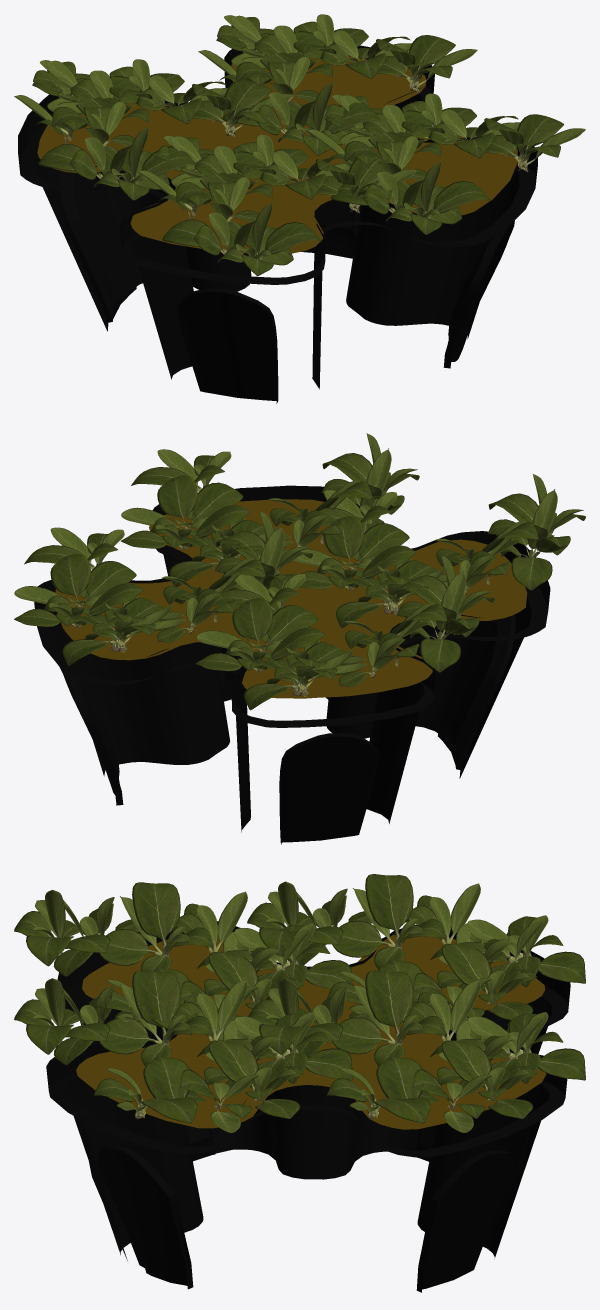
File: planterv2.glb
The picture shows the model from 3 angles, top to bottom: view 1: azimuth 30°, elevation 25°; view 2: azimuth 150°, elevation 25°; view 3: azimuth 270°, elevation 25°; orthographic projection. The views are drawn at different scales.
Parts seen in each view (by area): view 1: Circle.033, Circle.032, Bergenia Rotblum Set.070, Bergenia Rotblum Set.065, Bergenia Rotblum Set.067, Bergenia Rotblum Set.069; view 2: Circle.033, Circle.032, Bergenia Rotblum Set.070, Bergenia Rotblum Set.069, Bergenia Rotblum Set.065, Bergenia Rotblum Set.067; view 3: Circle.033, Bergenia Rotblum Set.067, Bergenia Rotblum Set.069, Bergenia Rotblum Set.070, Bergenia Rotblum Set.065, Circle.032.
Boxes of the visible parts, <box> form: Circle.033: <box>18,45,537,403</box>; Circle.032: <box>37,56,517,253</box>; Bergenia Rotblum Set.070: <box>14,59,293,200</box>; Bergenia Rotblum Set.065: <box>138,134,417,275</box>; Bergenia Rotblum Set.067: <box>306,93,585,234</box>; Bergenia Rotblum Set.069: <box>198,14,477,155</box>; Circle.033: <box>34,485,550,844</box>; Circle.032: <box>55,499,527,698</box>; Bergenia Rotblum Set.070: <box>195,556,494,710</box>; Bergenia Rotblum Set.069: <box>14,511,312,665</box>; Bergenia Rotblum Set.065: <box>293,474,585,628</box>; Bergenia Rotblum Set.067: <box>121,433,419,586</box>; Circle.033: <box>46,921,570,1292</box>; Bergenia Rotblum Set.067: <box>14,970,352,1132</box>; Bergenia Rotblum Set.069: <box>248,970,585,1132</box>; Bergenia Rotblum Set.070: <box>247,874,585,1032</box>; Bergenia Rotblum Set.065: <box>14,882,352,1040</box>; Circle.032: <box>76,933,546,1129</box>.
Size of the model in its own units: 4.67 by 2.59 by 5.06.
3 materials, 1 textured.
